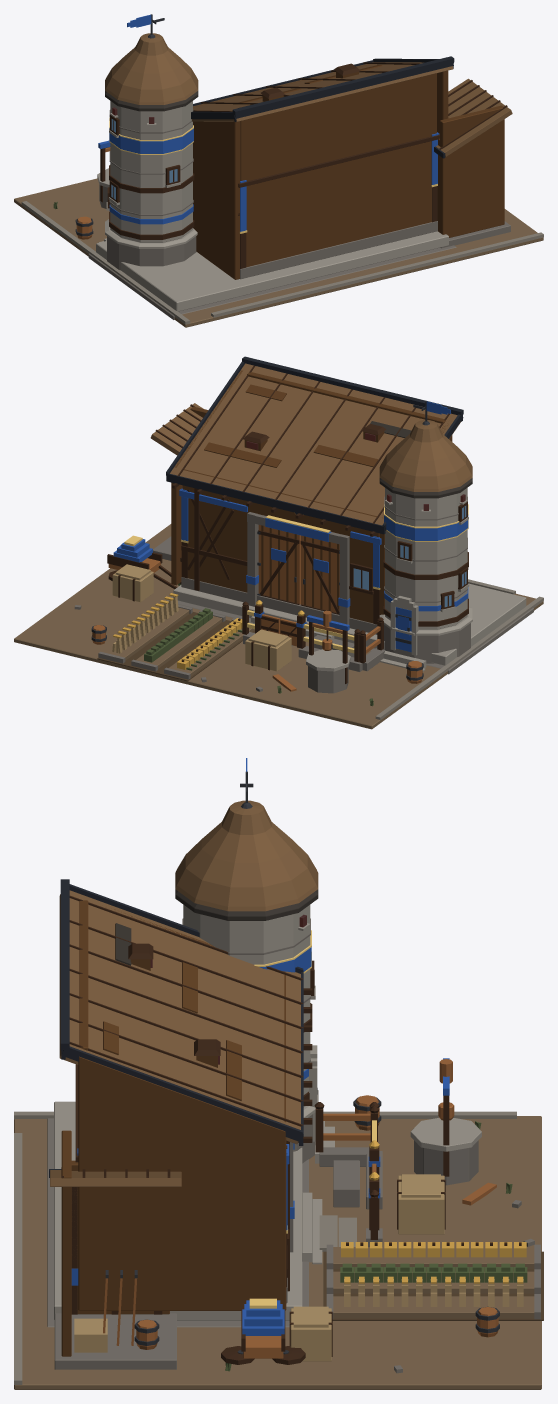
The picture shows the model from 3 angles, top to bottom: view 1: azimuth 30°, elevation 25°; view 2: azimuth 150°, elevation 25°; view 3: azimuth 270°, elevation 25°; orthographic projection. The views are drawn at different scales.
Parts seen in each view (by area): view 1: FM-wood_mid, FM-stone_light, FM-roof_wood, FM-earth, FM-stone_mid, FM-wood_dark, FM-roof_edge, FM-paving, FM-team, FM-stone_dark; view 2: FM-roof_wood, FM-earth, FM-stone_light, FM-wood_mid, FM-wood_dark, FM-stone_mid, FM-team, FM-wood_warm, FM-roof_edge, FM-sand, FM-paving, FM-earth_dark (+6 smaller); view 3: FM-earth, FM-wood_mid, FM-roof_wood, FM-stone_mid, FM-stone_light, FM-wood_dark, FM-sand, FM-roof_edge, FM-paving, FM-wood_warm, FM-gold, FM-moss (+4 smaller).
Part boxes in pixels (x1,y1,x2,y2): FM-wood_mid: (193, 64, 504, 279); FM-stone_light: (96, 101, 448, 311); FM-roof_wood: (105, 33, 512, 156); FM-earth: (14, 178, 543, 327); FM-stone_mid: (88, 110, 510, 319); FM-wood_dark: (100, 62, 507, 268); FM-roof_edge: (191, 56, 454, 158); FM-paving: (21, 201, 543, 324); FM-team: (98, 14, 439, 231); FM-stone_dark: (105, 91, 284, 111); FM-roof_wood: (150, 363, 472, 531); FM-earth: (14, 524, 543, 729); FM-stone_light: (173, 488, 526, 671); FM-wood_mid: (171, 370, 452, 623); FM-wood_dark: (107, 365, 468, 683); FM-stone_mid: (74, 496, 533, 693); FM-team: (113, 401, 468, 652); FM-wood_warm: (92, 525, 422, 691); FM-roof_edge: (166, 356, 463, 534); FM-sand: (112, 564, 291, 671); FM-paving: (291, 579, 543, 720); FM-earth_dark: (97, 612, 254, 681); FM-earth: (14, 1116, 541, 1389); FM-wood_mid: (61, 900, 286, 1356); FM-roof_wood: (50, 800, 318, 1186); FM-stone_mid: (47, 918, 540, 1373); FM-stone_light: (54, 905, 481, 1320); FM-wood_dark: (61, 895, 521, 1364); FM-sand: (74, 1174, 523, 1361); FM-roof_edge: (49, 879, 303, 1177); FM-paving: (14, 1111, 516, 1384); FM-wood_warm: (103, 1059, 498, 1358); FM-gold: (341, 1140, 526, 1283); FM-moss: (225, 1121, 527, 1371).
Size of the model in its own units: 15.35 by 10.11 by 12.75.
